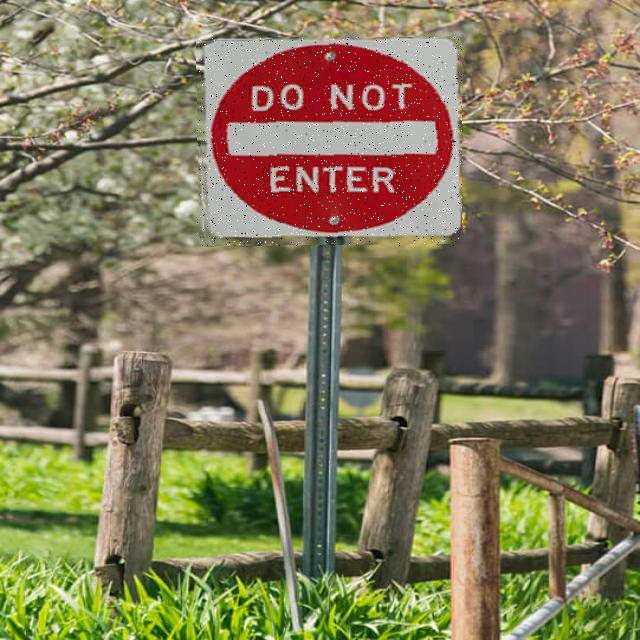no entry: (197, 37, 462, 246)
